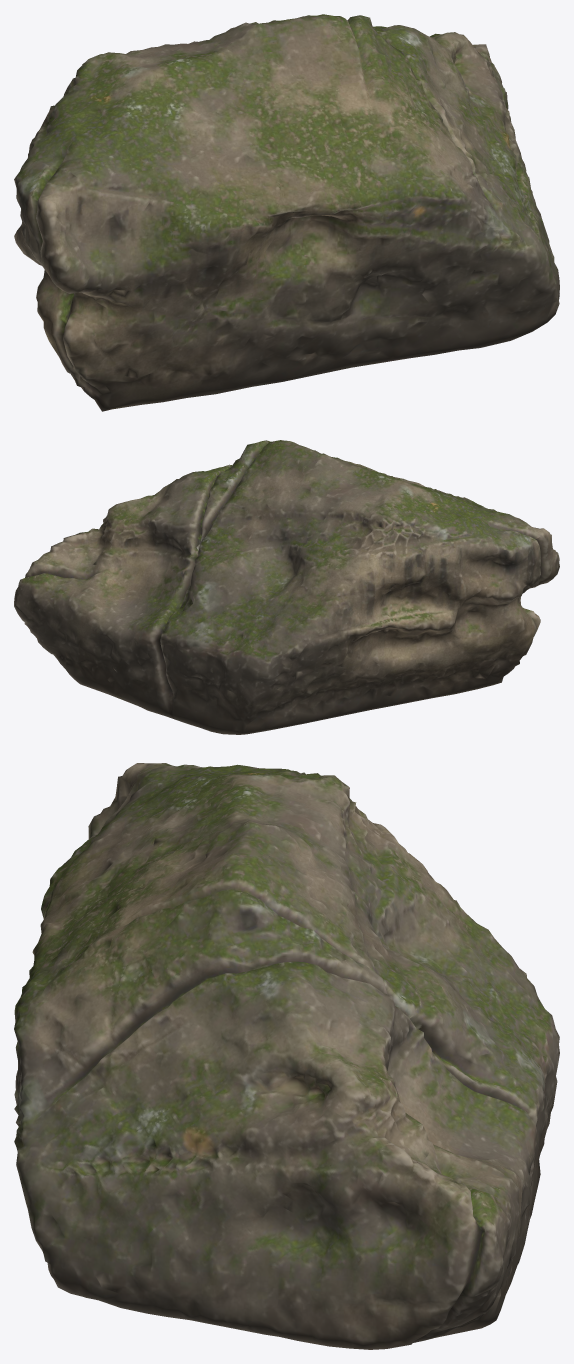
Rendered from balvan_piskovec_2.glb.
3 views of the same model, one above another, from view 1: azimuth 30°, elevation 25°; view 2: azimuth 150°, elevation 25°; view 3: azimuth 270°, elevation 25° (orthographic). The views are drawn at different scales.
Visible parts, largest first — view 1: balvan_piskovec_2; view 2: balvan_piskovec_2; view 3: balvan_piskovec_2.
Part boxes in pixels (x1,y1,x2,y2): balvan_piskovec_2: [14, 14, 559, 411]; balvan_piskovec_2: [14, 440, 559, 734]; balvan_piskovec_2: [14, 763, 559, 1349].
Bounding box in the file's own units: 2.2 × 1.11 × 1.46.
1 material, 1 textured.
